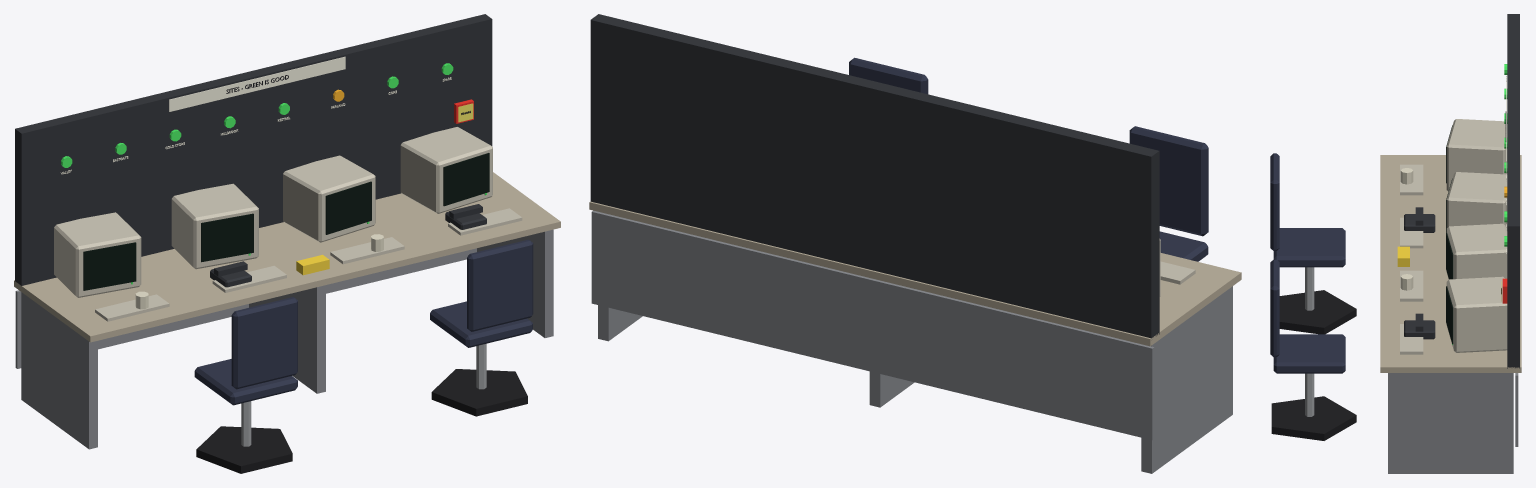
Rendered from dc.noc-desk.glb.
3 renders of one model, left to right at view 1: azimuth 30°, elevation 25°; view 2: azimuth 150°, elevation 25°; view 3: azimuth 270°, elevation 25°, orthographic. The views are drawn at different scales.
Parts seen in each view (by area): view 1: upstand, top, leg-1, chair1-back, chair0-back, mon3-case, mon2-case, mon0-case, mon1-case, modesty, chair0-base, chair1-base (+13 smaller); view 2: upstand, modesty, leg-1, top, chair0-back, chair1-back, chair0-seat, leg0, leg1; view 3: top, leg1, upstand, mon3-case, mon0-case, mon1-case, mon2-case, chair1-seat, chair1-base, chair0-seat, chair0-base, chair1-back (+12 smaller).
Boxes of the visible parts, x1,y1,x2,y2 form: upstand: [15, 14, 492, 285]; top: [14, 172, 560, 342]; leg-1: [21, 292, 97, 449]; chair1-back: [467, 239, 533, 331]; chair0-back: [231, 297, 297, 389]; mon3-case: [400, 127, 492, 213]; mon2-case: [283, 155, 375, 242]; mon0-case: [54, 212, 141, 297]; mon1-case: [171, 183, 258, 269]; modesty: [15, 248, 476, 368]; chair0-base: [196, 426, 292, 473]; chair1-base: [431, 369, 527, 416]; upstand: [590, 14, 1159, 338]; modesty: [591, 210, 1154, 440]; leg-1: [1141, 286, 1232, 473]; top: [589, 201, 1241, 346]; chair0-back: [1129, 126, 1208, 236]; chair1-back: [849, 57, 928, 94]; chair0-seat: [1159, 231, 1208, 261]; leg0: [869, 371, 914, 407]; leg1: [598, 305, 642, 341]; top: [1380, 155, 1521, 372]; leg1: [1388, 373, 1513, 473]; upstand: [1507, 14, 1519, 368]; mon3-case: [1446, 276, 1507, 352]; mon0-case: [1446, 119, 1507, 191]; mon1-case: [1446, 172, 1507, 230]; mon2-case: [1446, 223, 1507, 279]; chair1-seat: [1273, 334, 1345, 373]; chair1-base: [1271, 396, 1356, 440]; chair0-seat: [1273, 228, 1345, 267]; chair0-base: [1279, 290, 1356, 334]; chair1-back: [1270, 259, 1279, 357].
Bounding box in the file's own units: 3.2 × 1.75 × 1.6.
